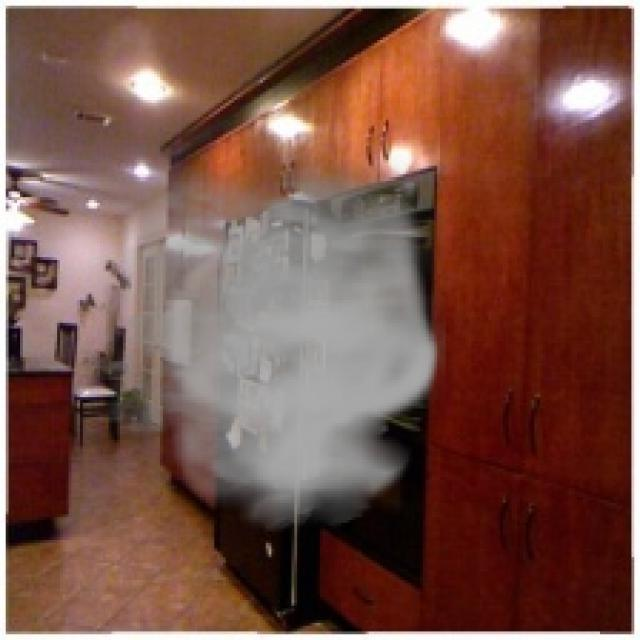Smoke: (57, 143, 446, 532)
